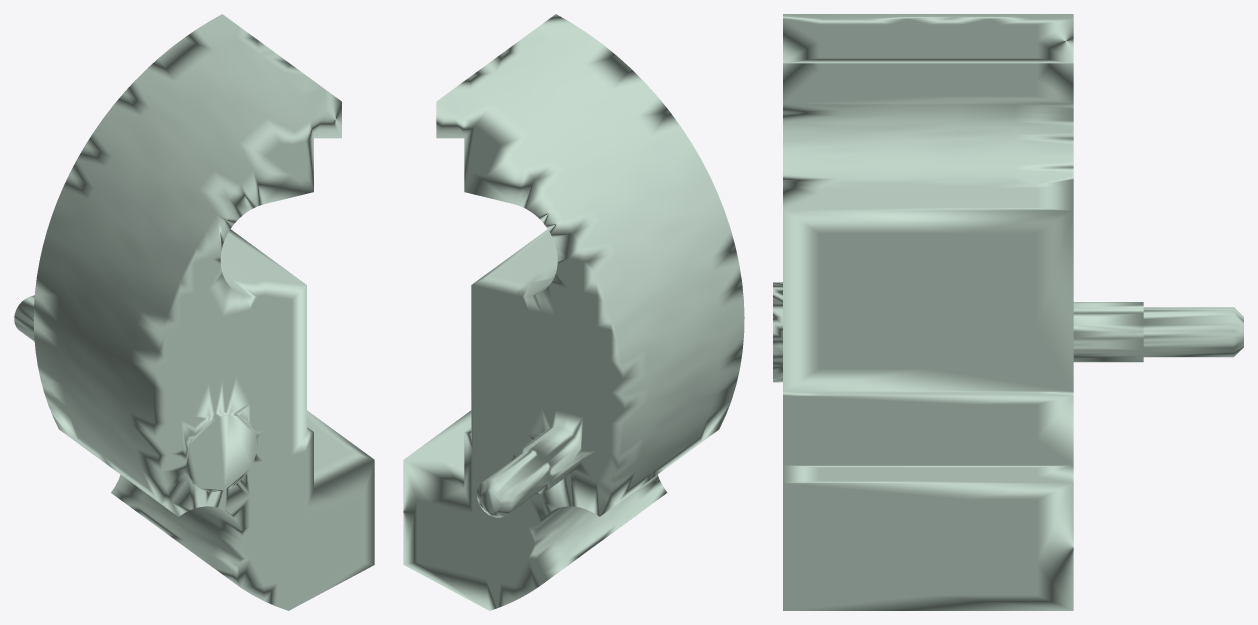
Rendered from bennettinsert_right_deco.obj.
3 renders of one model, left to right at view 1: azimuth 30°, elevation 25°; view 2: azimuth 150°, elevation 25°; view 3: azimuth 270°, elevation 25°, orthographic. The views are drawn at different scales.
Size of the model in its own units: 15.5 by 33.2 by 23.5.
